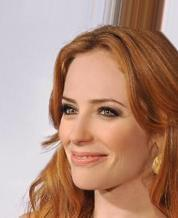face: (59, 94, 120, 166)
